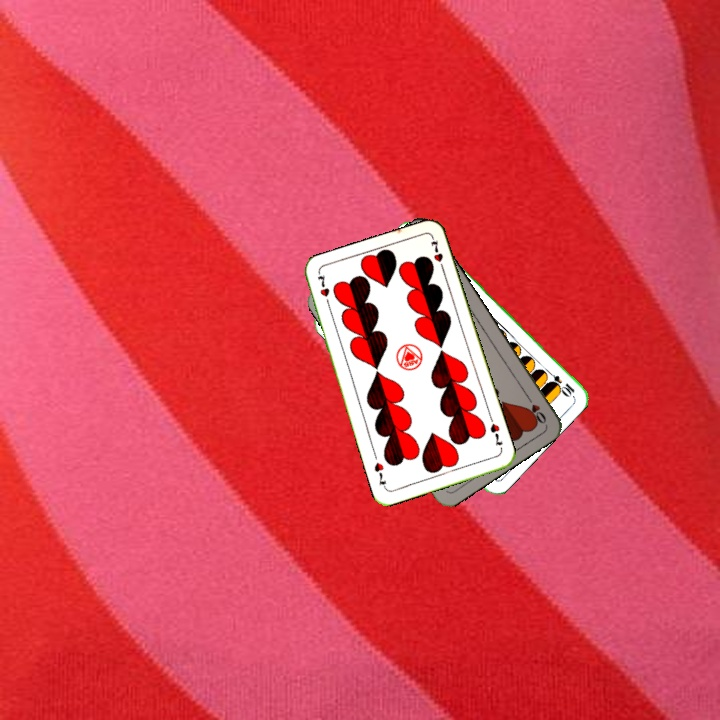E10: (542, 366, 577, 399)
H7: (313, 270, 333, 310), (486, 419, 505, 449)
HO: (522, 390, 549, 426)
